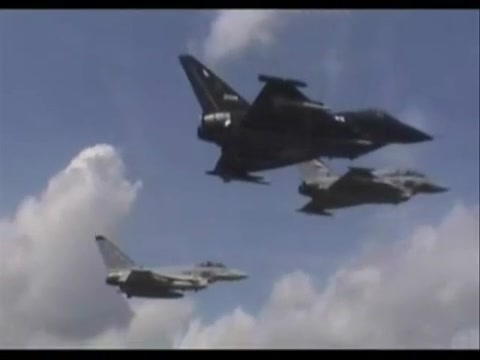aeroplane: (92, 231, 253, 301)
